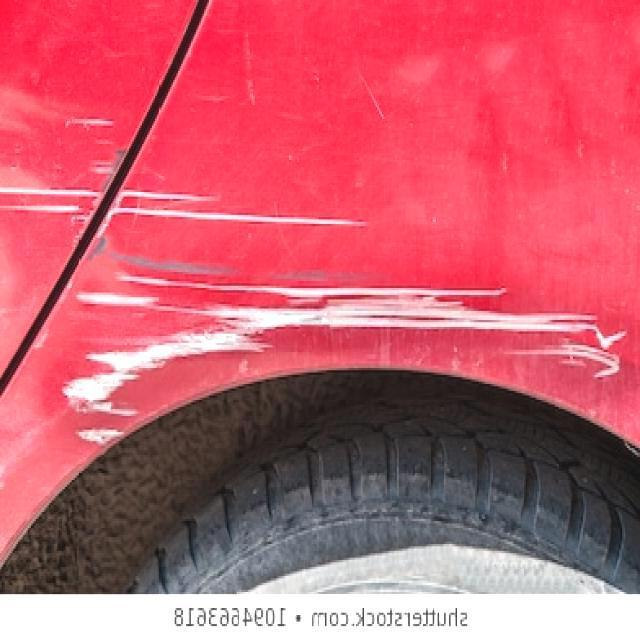minor: (62, 126, 118, 194), (270, 271, 379, 284), (61, 117, 114, 131)
moderate: (64, 259, 620, 445), (108, 182, 367, 228), (200, 283, 506, 305), (0, 187, 96, 215), (112, 255, 252, 274)
